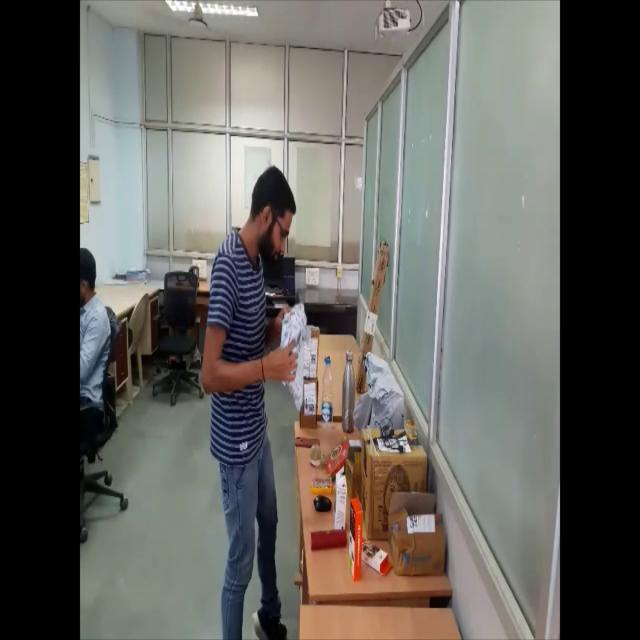normal: (197, 156, 316, 640)
